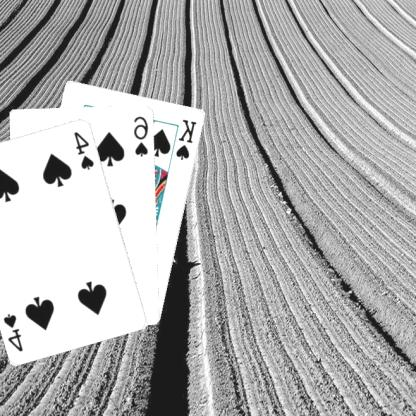4S: (74, 128, 98, 171), (2, 310, 26, 353)
6S: (132, 113, 152, 158)
KS: (175, 116, 201, 161)
